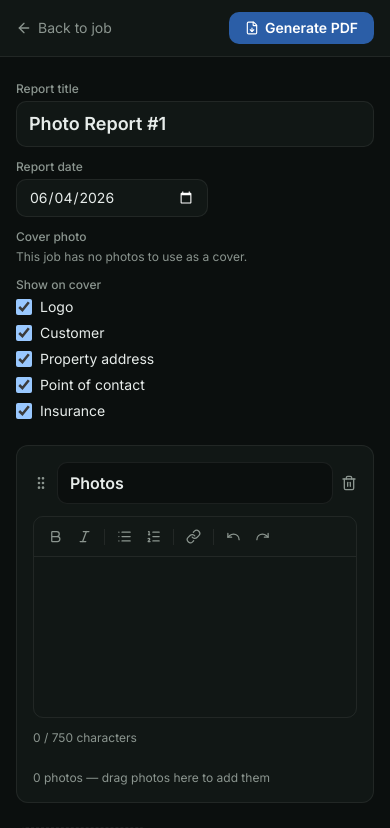
PhotoReportBuilder auto-save › persists an edited title automatically, with no Save button
Expected: the button "save" is not shown
Replace the text in the field labelled "Report title" with "Roof damage report" at (195, 124), box [16, 101, 374, 147]
Wait 2000 ms
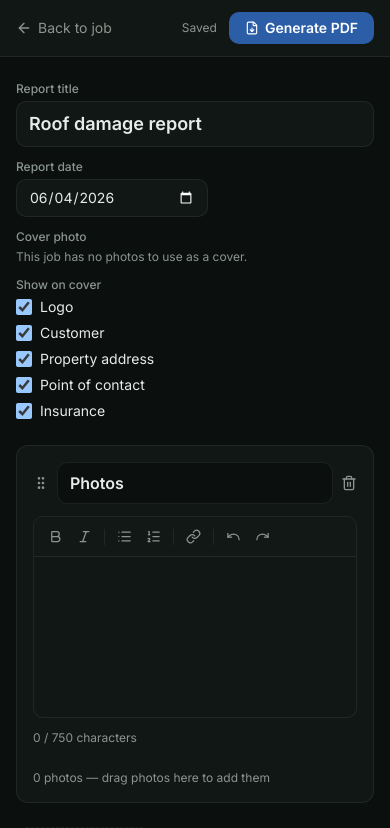
Now the text "Saved" is shown, box [182, 20, 217, 36]
